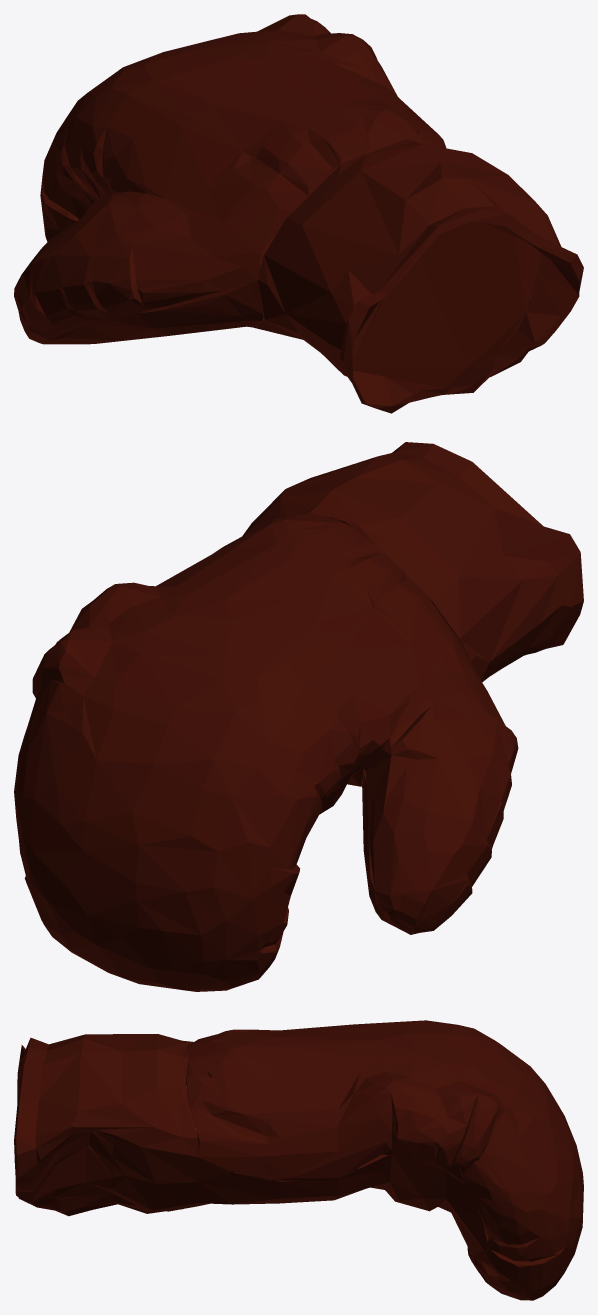
File: RightGlove.FBX
The picture shows the model from 3 angles, top to bottom: view 1: azimuth 30°, elevation 25°; view 2: azimuth 150°, elevation 25°; view 3: azimuth 270°, elevation 25°; orthographic projection. The views are drawn at different scales.
Parts seen in each view (by area): view 1: sub01; view 2: sub01; view 3: sub01.
Part boxes in pixels (x1,y1,x2,y2): sub01: [14, 14, 583, 413]; sub01: [14, 442, 583, 991]; sub01: [14, 1020, 583, 1300].
Bounding box in the file's own units: 5.52 × 4.26 × 8.56.
